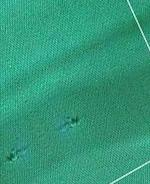knot: (58, 116, 80, 132), (4, 149, 20, 168)
